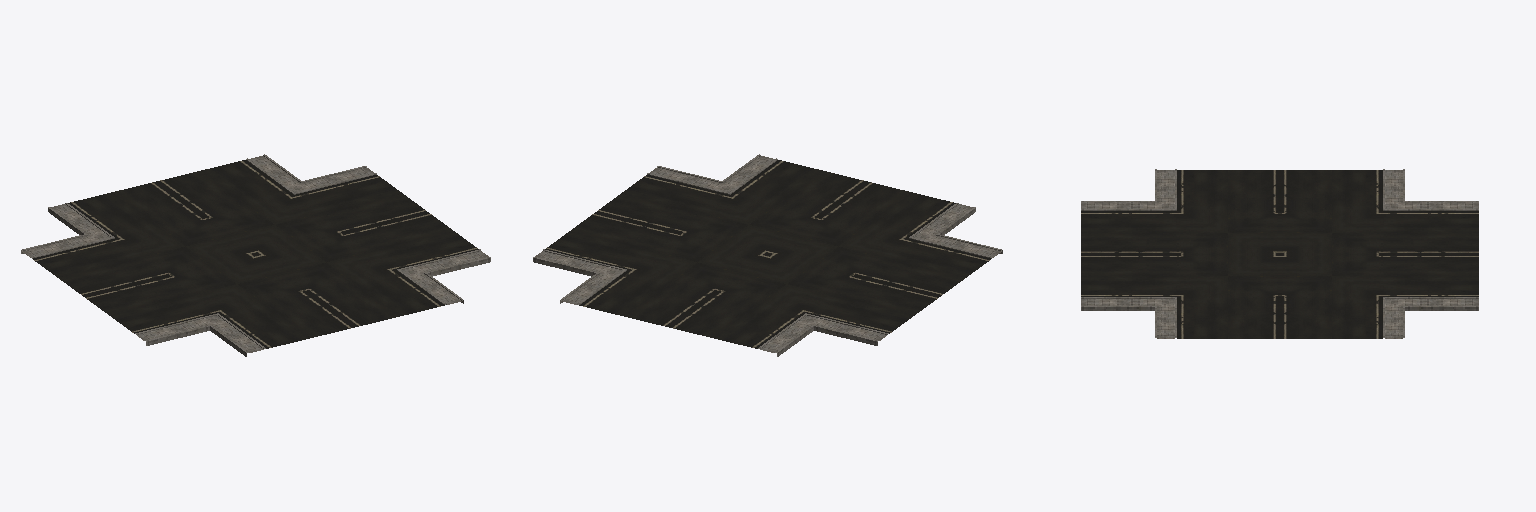
The picture shows the model from 3 angles: view 1: azimuth 30°, elevation 25°; view 2: azimuth 150°, elevation 25°; view 3: azimuth 270°, elevation 25°; orthographic projection.
Parts seen in each view (by area): view 1: 7_Road-Cross-C-A; view 2: 7_Road-Cross-C-A; view 3: 7_Road-Cross-C-A.
Boxes of the visible parts, x1,y1,x2,y2 form: 7_Road-Cross-C-A: [21, 154, 490, 356]; 7_Road-Cross-C-A: [533, 154, 1002, 356]; 7_Road-Cross-C-A: [1081, 169, 1478, 338].
Bounding box in the file's own units: 1.67 × 0.0219 × 1.67.
1 materials, 1 textured.